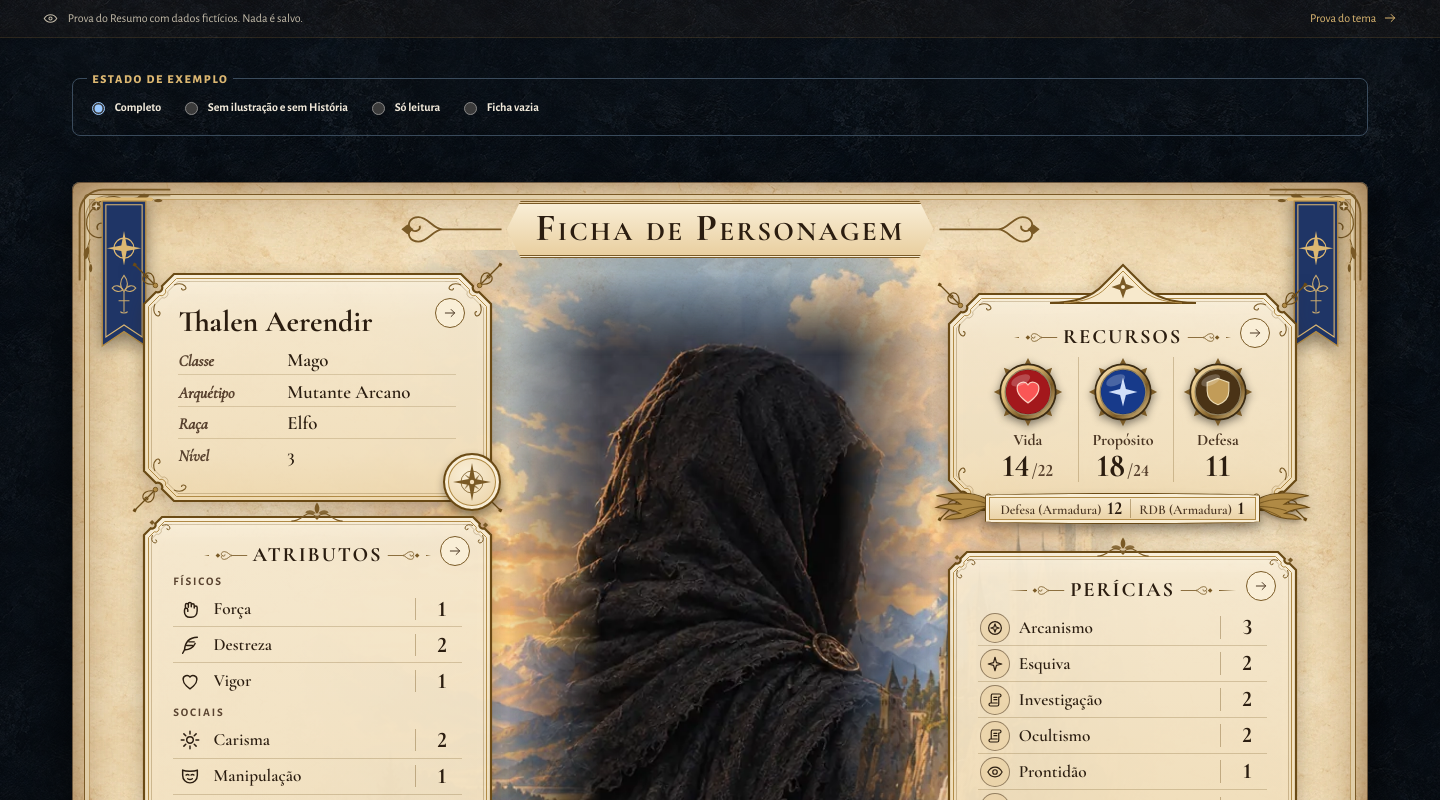
Test: prova do Resumo › mostra o personagem de exemplo e alterna os estados de exemplo
Check: the heading "Thalen Aerendir" is shown, box left=178, top=306, right=372, bottom=337
Click the radio button labelled "Só leitura" at (379, 108), box left=372, top=102, right=385, bottom=115
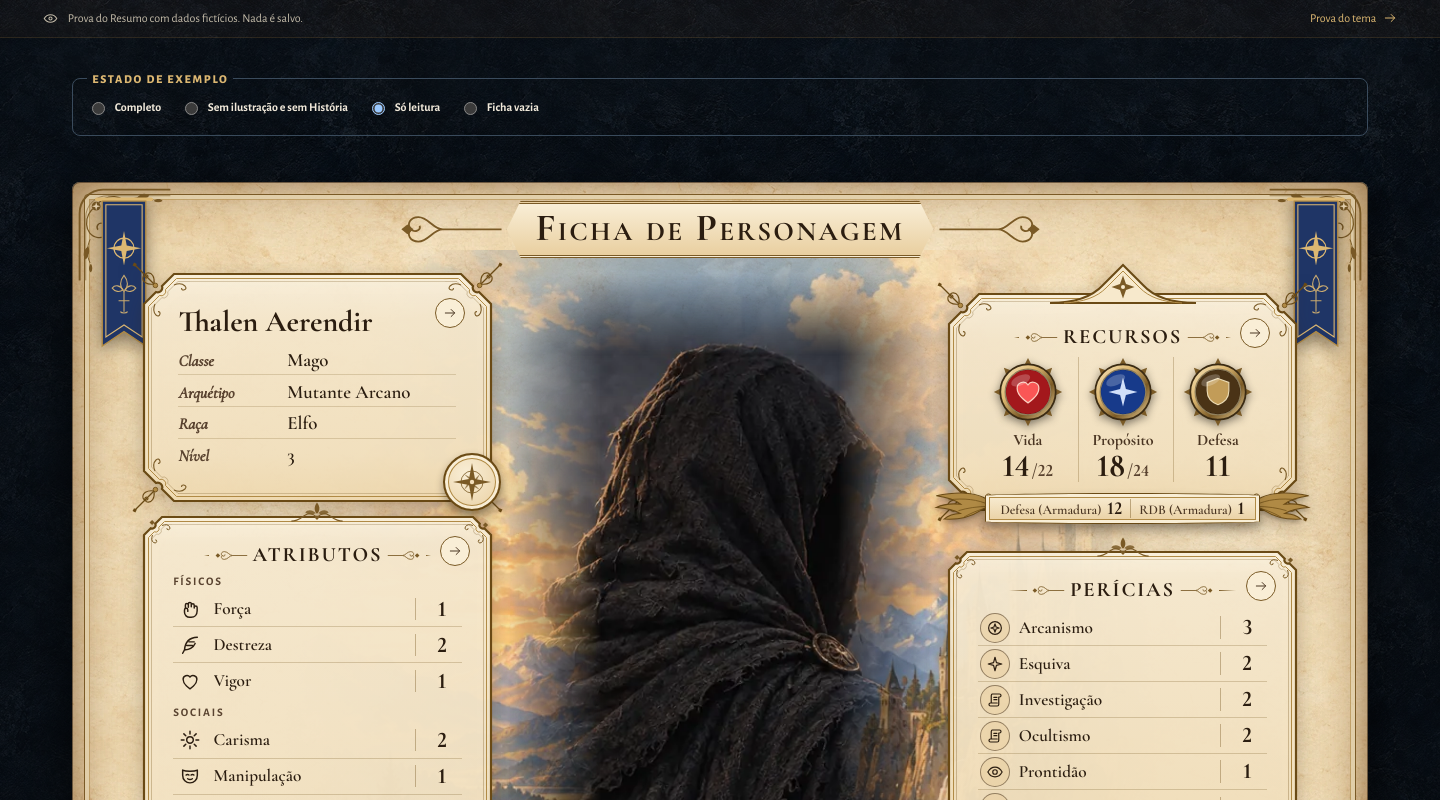
Click the radio button labelled "Ficha vazia" at (471, 108), box left=464, top=102, right=477, bottom=115
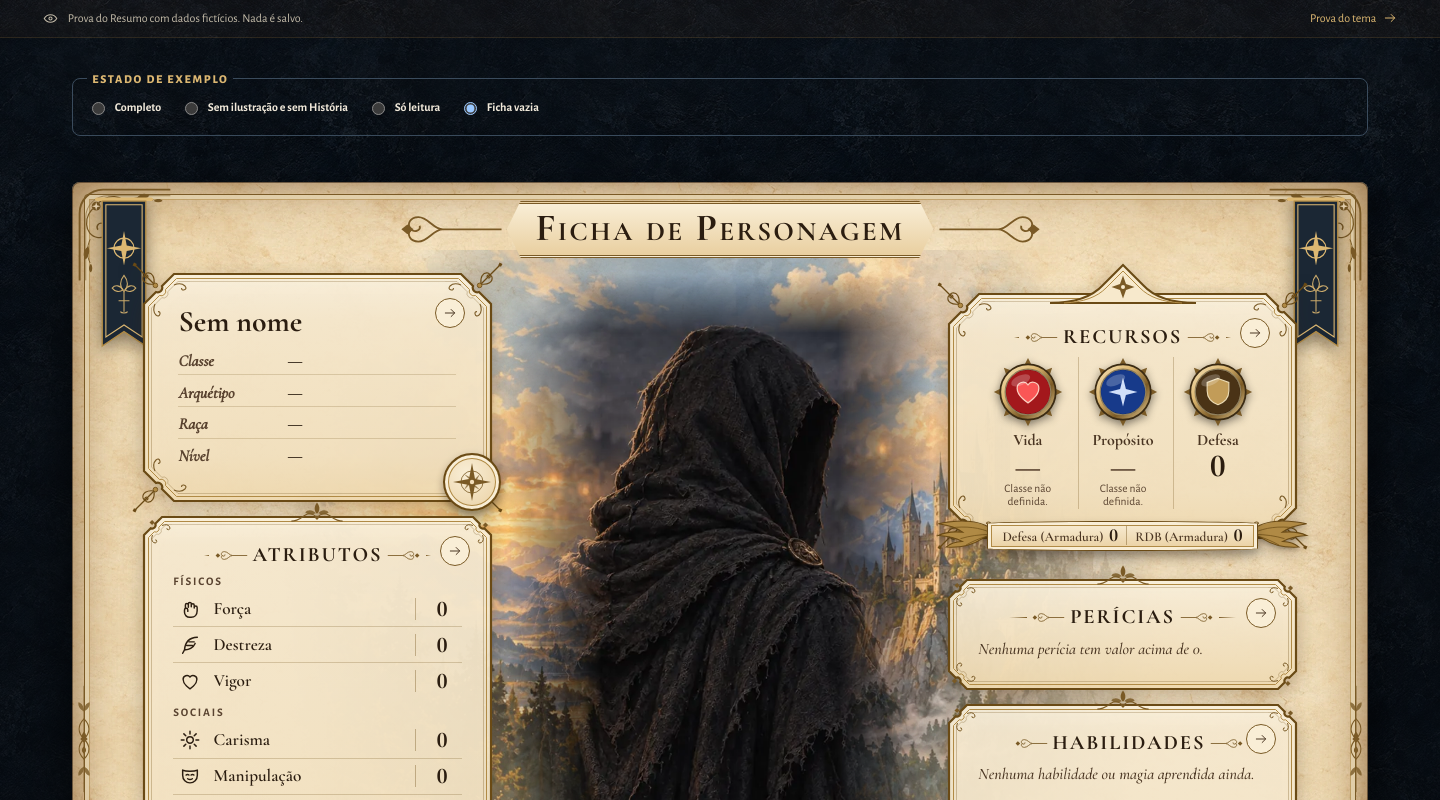
Check: the heading "Sem nome" is shown, box left=178, top=306, right=302, bottom=337
Check: the text "Classe não definida." is shown 2 times, box left=1004, top=483, right=1051, bottom=507; left=1100, top=483, right=1146, bottom=507
Click the button named "Abrir Perícias" at (1261, 614), box left=1246, top=598, right=1276, bottom=628
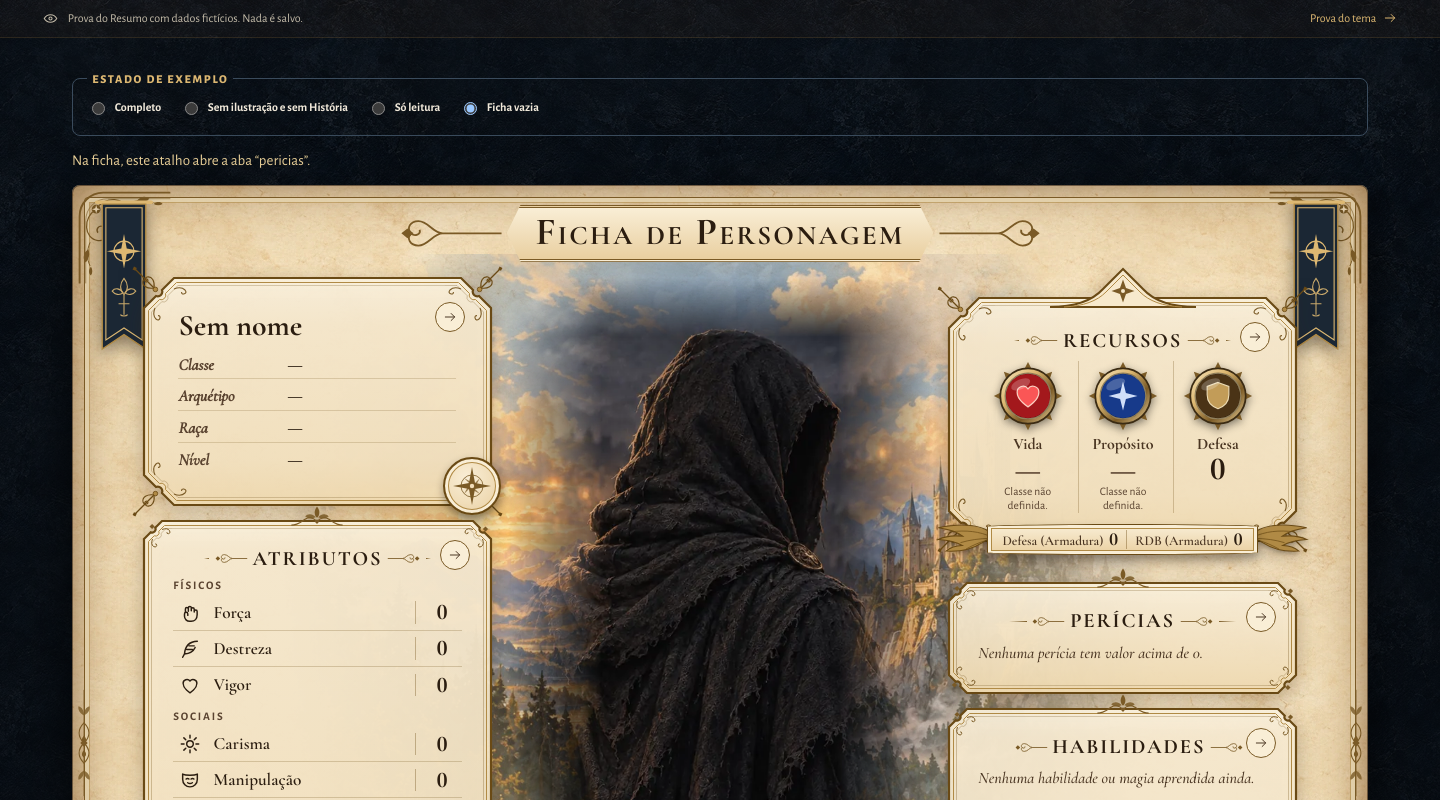
Check: the message shows "pericias", box left=72, top=153, right=310, bottom=168
